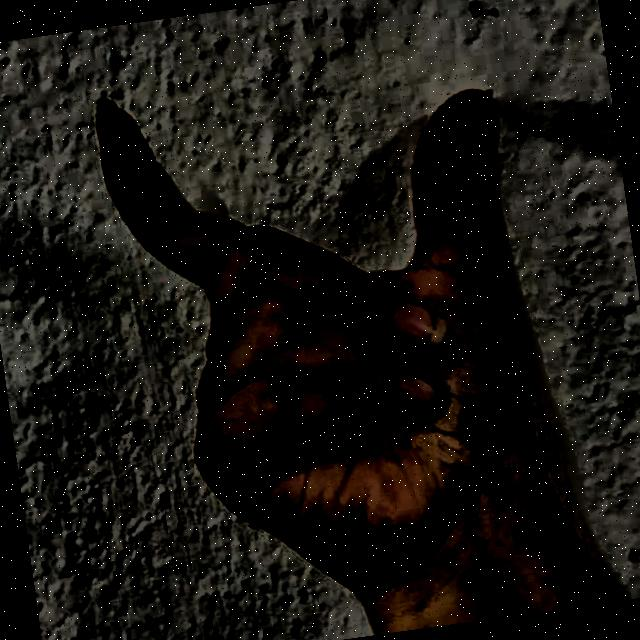ChandraBindu: (56, 0, 598, 638)
